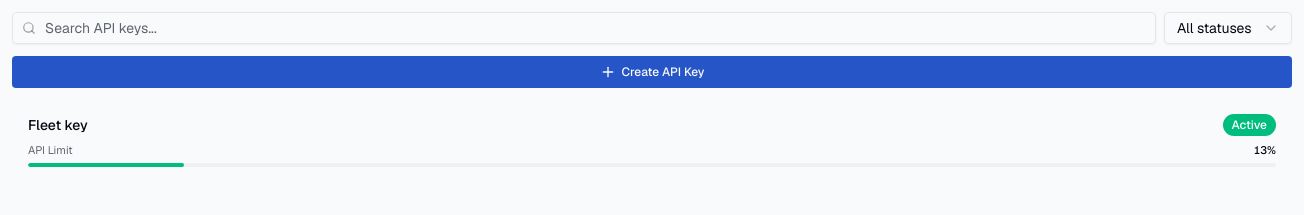
Test: ApiList › shows filter-empty copy when keys exist but none match
Type "not-found" into the field with placeholder "Search API keys..." at (584, 28), box [12,12,1156,44]
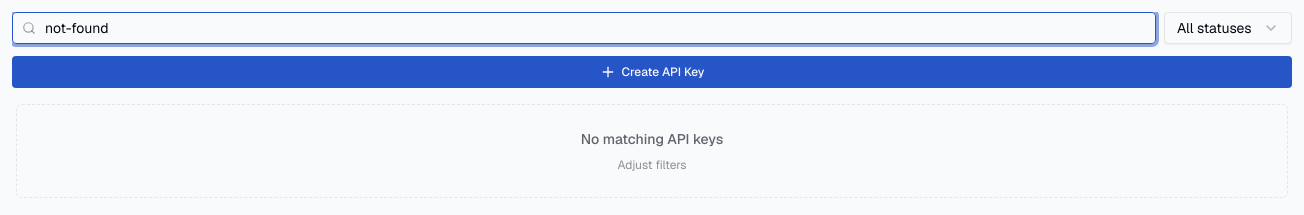
expect the text "No matching API keys" is shown: met, box [581,129,723,149]
expect the text "Adjust filters" is shown: met, box [617,157,687,173]
